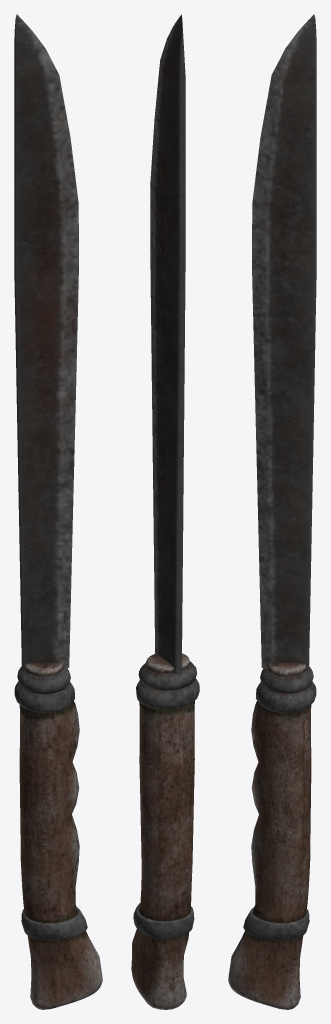
The model's file is machete.c8a1fe2789.glb.
3 views of the same model, side by side, from view 1: azimuth 90°, elevation 25°; view 2: azimuth 210°, elevation 25°; view 3: azimuth 270°, elevation 25° (orthographic).
Visible parts, largest first — view 1: machete; view 2: machete; view 3: machete.
Part boxes in pixels (left/top/right/bottom): machete: left=14, top=14, right=102, bottom=1009; machete: left=131, top=14, right=199, bottom=1009; machete: left=228, top=14, right=316, bottom=1009.
Bounding box in the file's own units: 0.0444 × 0.7548 × 0.0611.
Materials: 1 (1 with a texture image).
